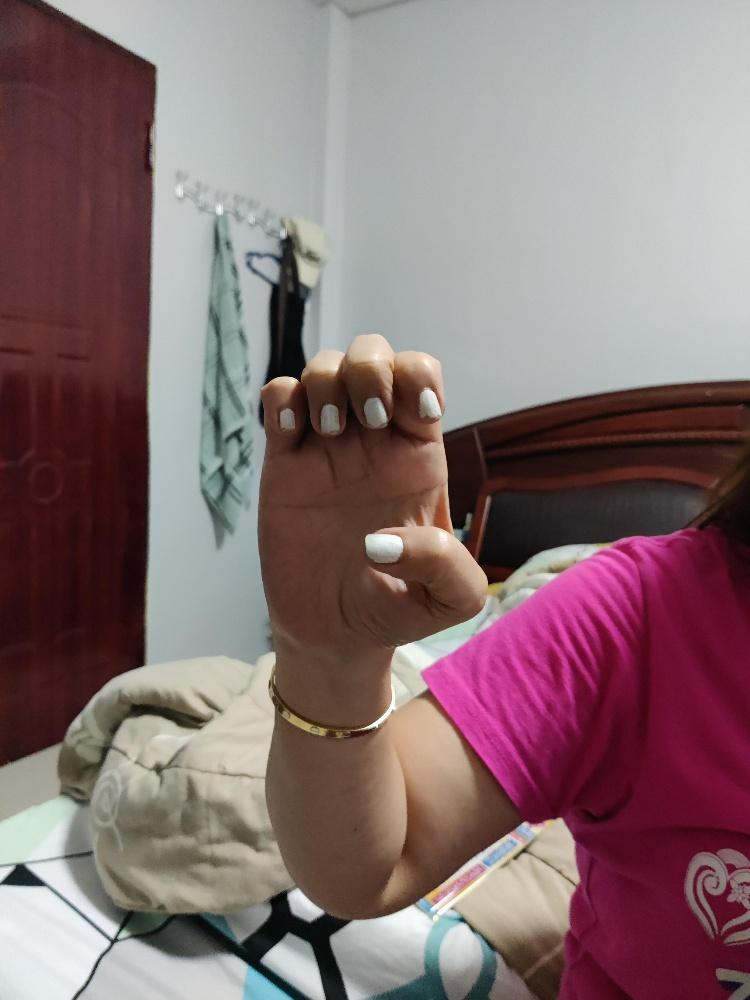e: (254, 330, 490, 648)
